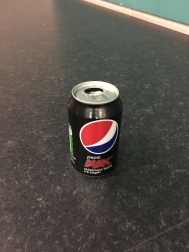can_black: (61, 74, 127, 182)
